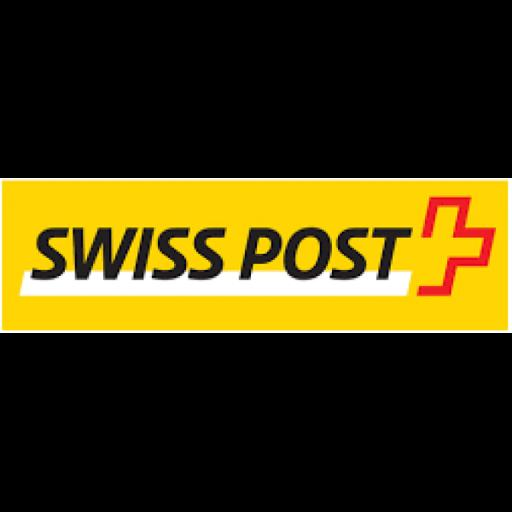Swiss Post: (0, 178, 512, 333)
